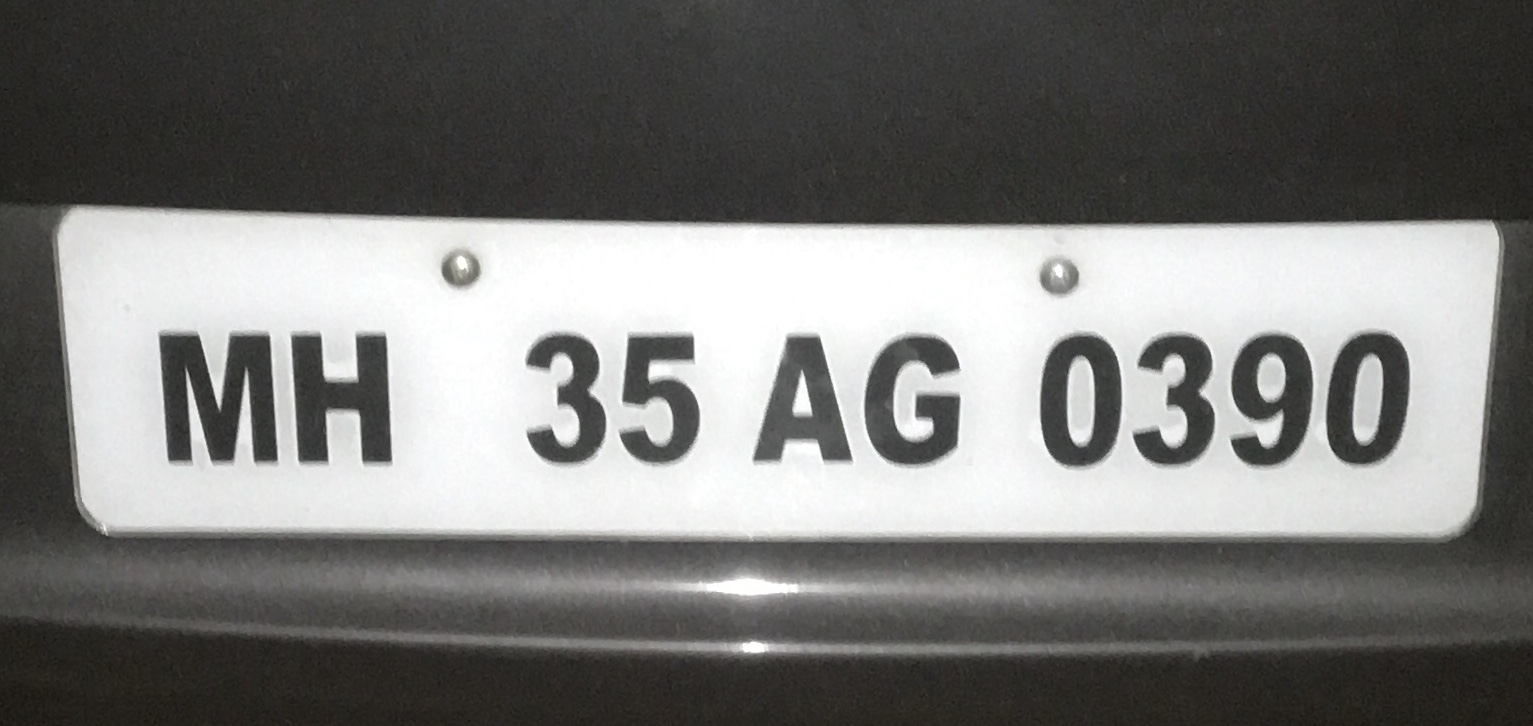numberplate: (51, 193, 1505, 545)
